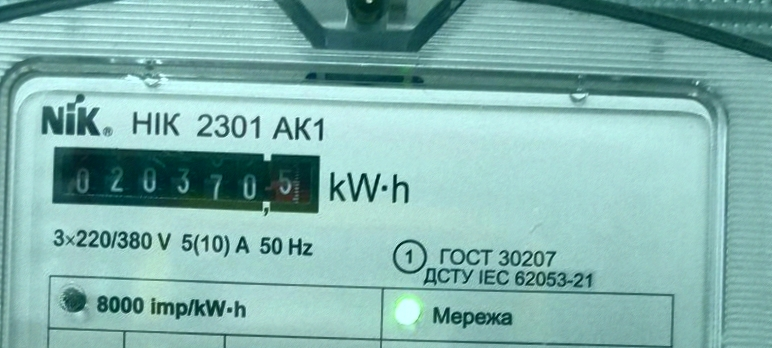0: (240, 171, 259, 202), (74, 165, 91, 194), (142, 165, 157, 193)
2: (108, 164, 126, 195)
3: (175, 165, 191, 195)
5: (277, 166, 295, 197)
7: (207, 171, 223, 202)
screen: (45, 140, 329, 223)
